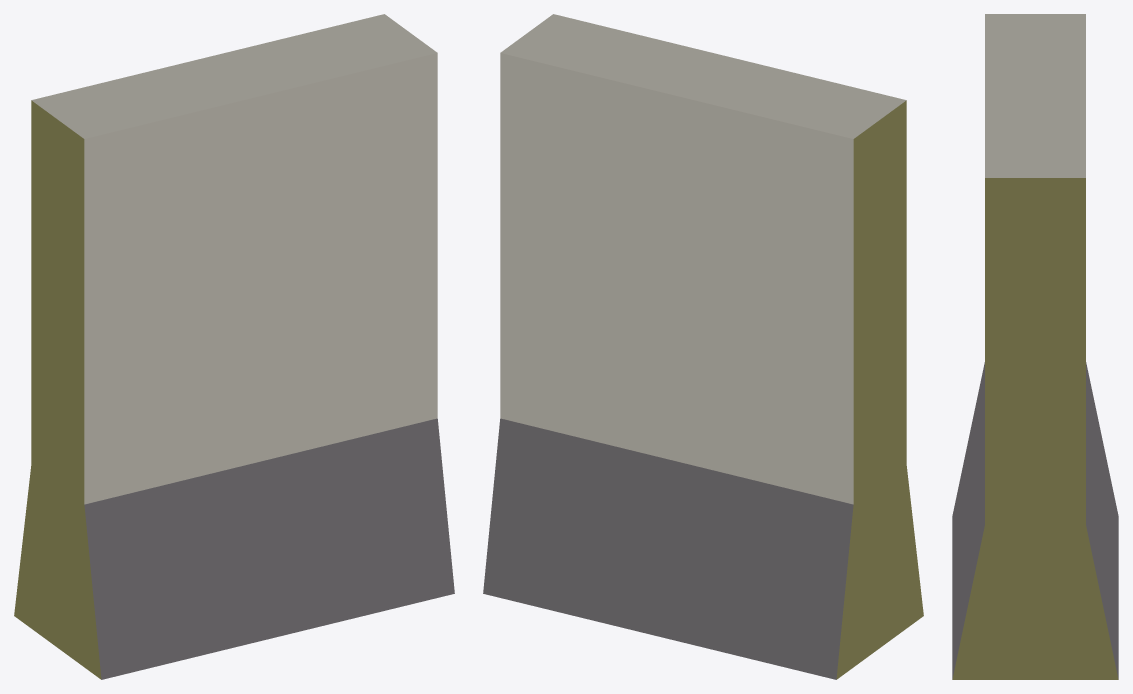
File: tall_block.glb
The picture shows the model from 3 angles, left to right: view 1: azimuth 30°, elevation 25°; view 2: azimuth 150°, elevation 25°; view 3: azimuth 270°, elevation 25°; orthographic projection. The views are drawn at different scales.
Visible parts, largest first — view 1: Tall_Block; view 2: Tall_Block; view 3: Tall_Block.
Boxes of the visible parts, x1=… form: Tall_Block: x1=14, y1=14, x2=454, y2=679; Tall_Block: x1=483, y1=14, x2=923, y2=679; Tall_Block: x1=952, y1=14, x2=1118, y2=679.
Size of the model in its own units: 1.4 by 2 by 0.6.
